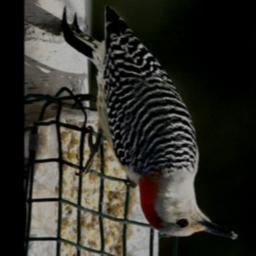Woodpecker: (62, 5, 238, 241)
